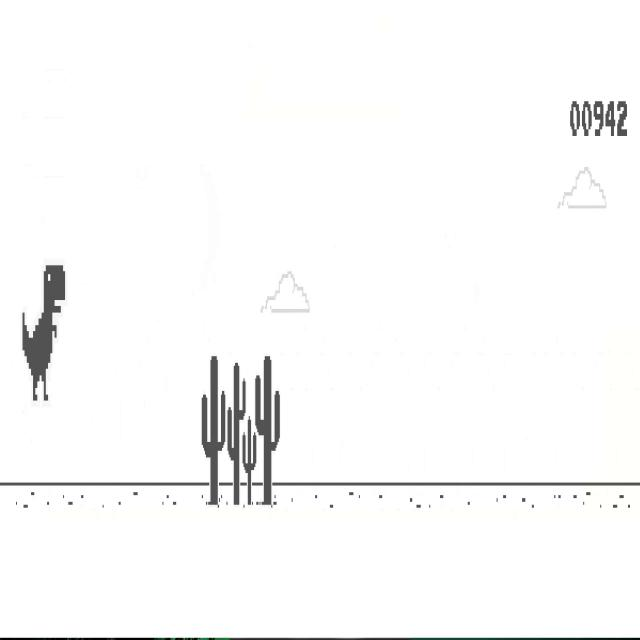cacto: (255, 355, 281, 506), (201, 355, 226, 506), (227, 362, 246, 506), (242, 416, 257, 506)
dino: (22, 265, 65, 402)
